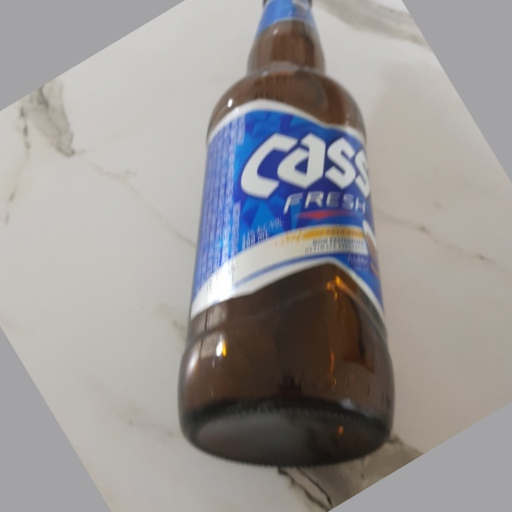Glass_1: (177, 1, 398, 465)
